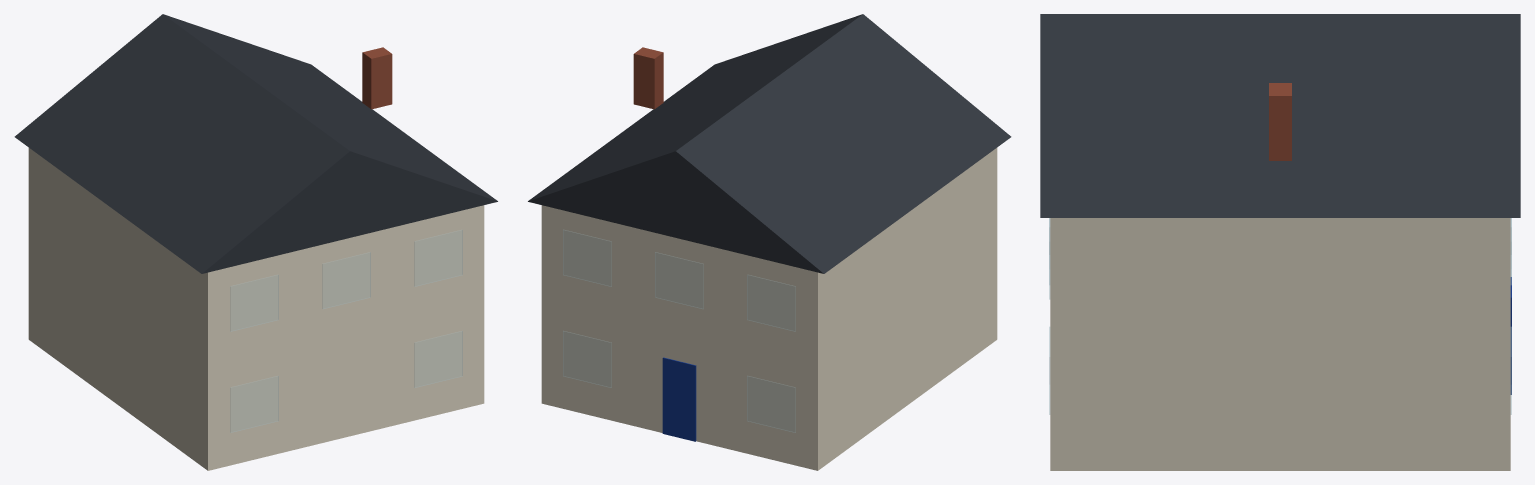
The model's file is context.house_rendered.glb.
3 views of the same model, side by side, from view 1: azimuth 30°, elevation 25°; view 2: azimuth 150°, elevation 25°; view 3: azimuth 270°, elevation 25° (orthographic). The views are drawn at different scales.
Visible parts, largest first — view 1: walls__render, roof__slate, openings__glass, roof__brick; view 2: walls__render, roof__slate, openings__glass, openings__plastic_blue, roof__brick; view 3: walls__render, roof__slate, roof__brick.
Part boxes in pixels (x1,y1,x2,y2): walls__render: [28, 148, 484, 470]; roof__slate: [14, 14, 497, 273]; openings__glass: [230, 230, 462, 432]; roof__brick: [362, 47, 392, 109]; walls__render: [541, 148, 997, 470]; roof__slate: [528, 14, 1011, 273]; openings__glass: [563, 230, 795, 432]; openings__plastic_blue: [662, 357, 696, 441]; roof__brick: [633, 47, 663, 109]; walls__render: [1050, 218, 1510, 470]; roof__slate: [1040, 14, 1520, 217]; roof__brick: [1269, 83, 1291, 160].
Bounding box in the file's own units: 8.6 × 8 × 9.4.
